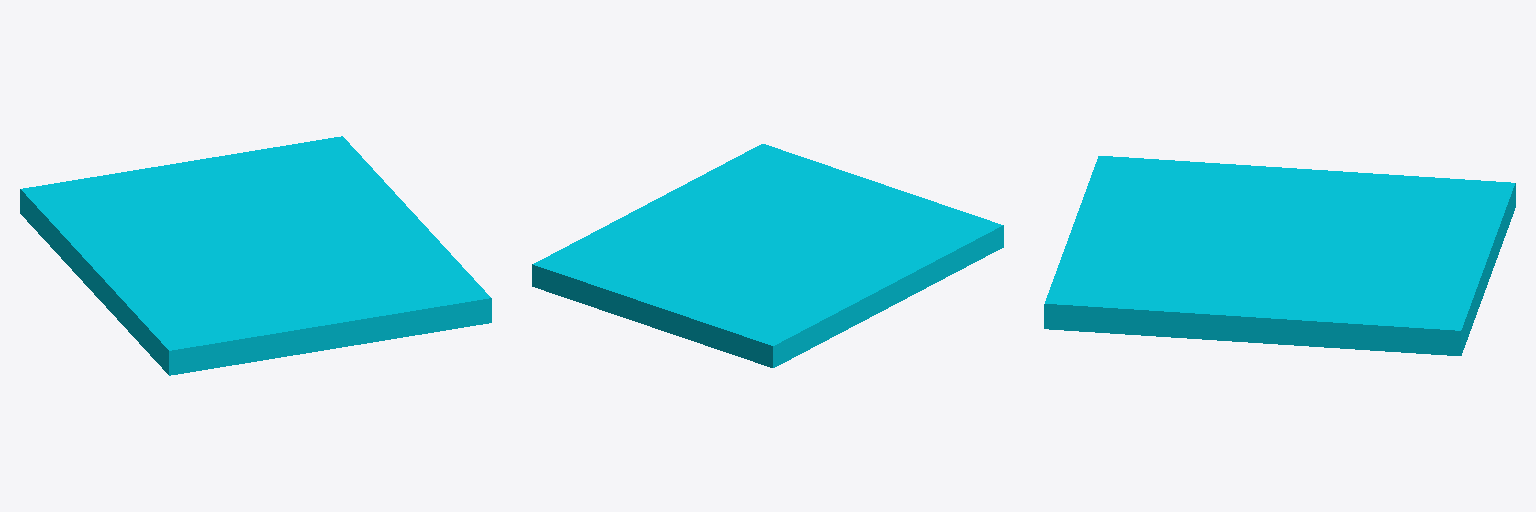
URDF robot description (Interference):
<?xml version="1.0"?>
<robot name="Interference">
  <link name="baseLink">
    <inertial>
      <origin xyz="0.0 0.0 0.0" rpy="0.0 0.0 0.0"/>
      <inertia ixx="0.0" ixy="0.0" ixz="0.0" iyy="0.0" iyz="0.0" izz="0.0"/>
      <mass value="0"/>
    </inertial>
    <visual>
      <origin xyz="0.0 0.0 0.0" rpy="0.0 0.0 1.4173206778929064"/>
      <geometry>
        <box size="0.14963532958749712 0.1258257541542318 0.01"/>
      </geometry>
      <material name="color">
        <color rgba="0.04073769169696073 0.8467876125720987 0.9349602260513502 1.0"/>
      </material>
    </visual>
  </link>
</robot>

--- What the picture shows (computed from the rendered views, not written in the file) ---
The picture shows the robot from 3 angles, left to right: view 1: azimuth 30°, elevation 25°; view 2: azimuth 150°, elevation 25°; view 3: azimuth 270°, elevation 25°; orthographic projection.
Robot: Interference — 1 links, 0 joints (none); root link baseLink; default pose: all joints at 0.
Links seen in each view (by area): view 1: baseLink; view 2: baseLink; view 3: baseLink.
Link boxes in pixels (<box>): baseLink: <box>20,136,491,375</box>; baseLink: <box>532,144,1003,367</box>; baseLink: <box>1044,156,1515,355</box>.
Bounding box of the posed robot: 0.1472 × 0.1671 × 0.01 m (x, y, z).
Geometry: primitives only (box / cylinder / sphere), no mesh files.